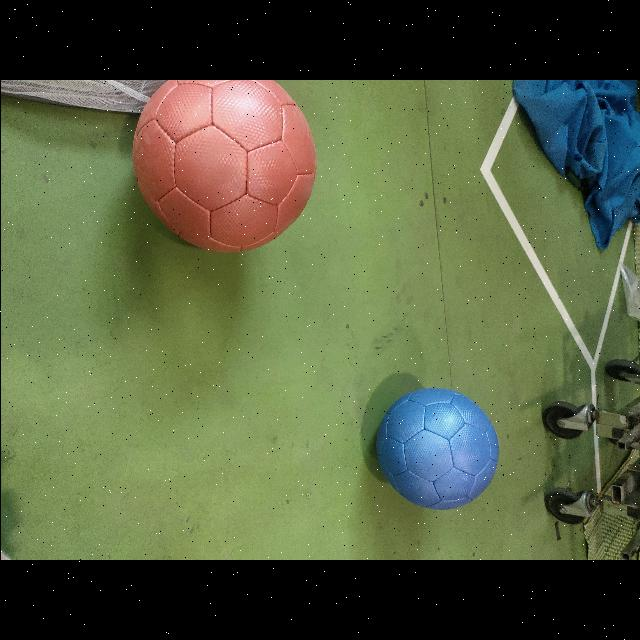B: (370, 387, 498, 511)
R: (128, 80, 315, 254)
